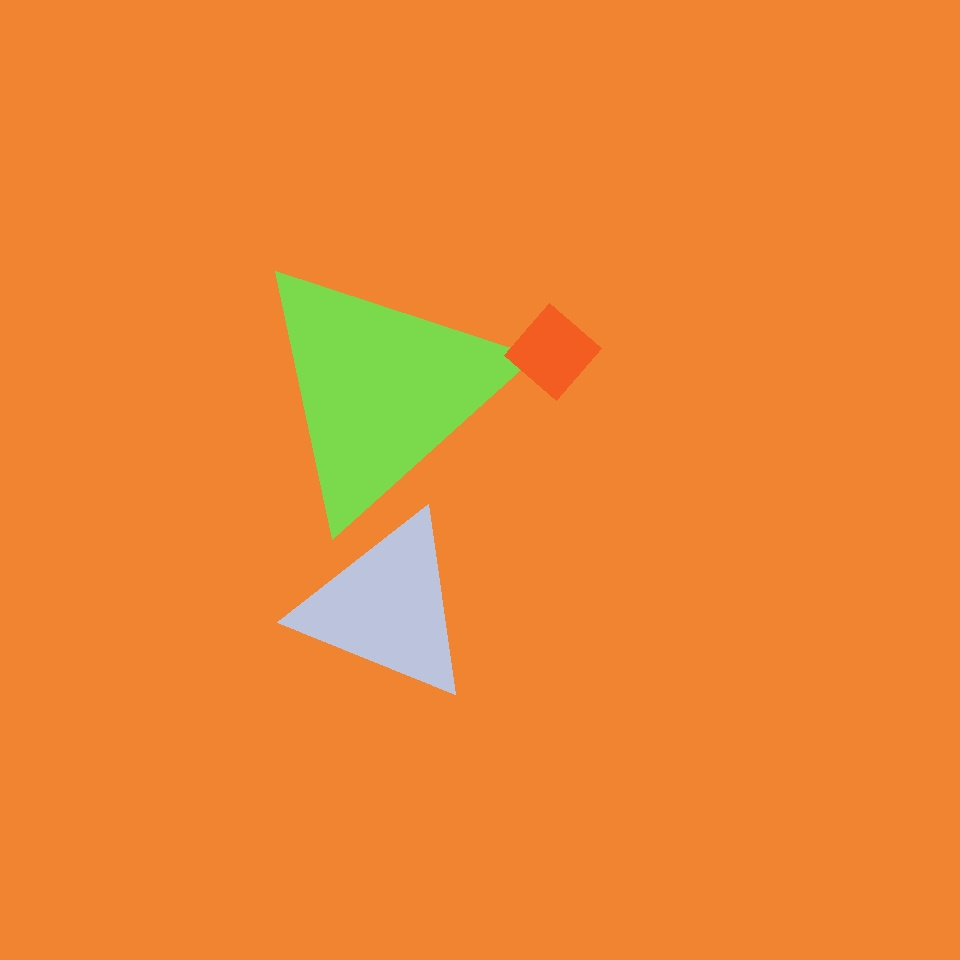circle: (94, 287, 405, 573), (251, 255, 511, 523), (633, 399, 865, 611), (596, 131, 813, 349), (298, 512, 476, 702)
square: (569, 477, 924, 832), (153, 51, 435, 333), (504, 303, 602, 400)
triangle: (99, 289, 373, 564)
